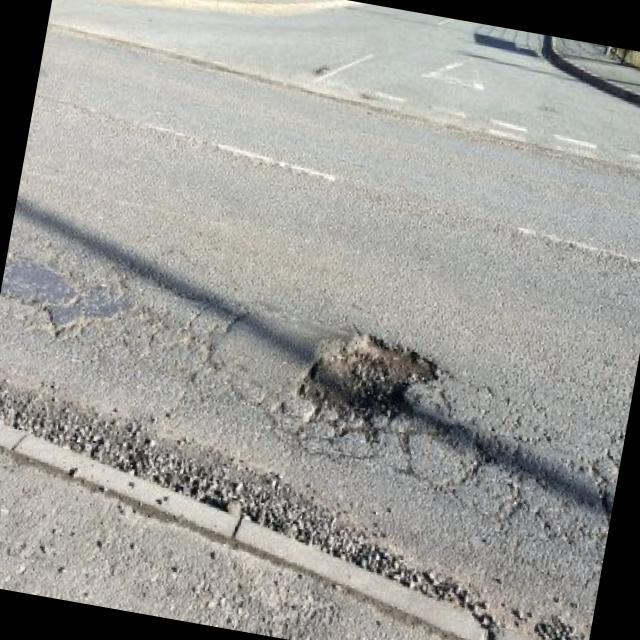Pothole: (283, 307, 453, 444)
